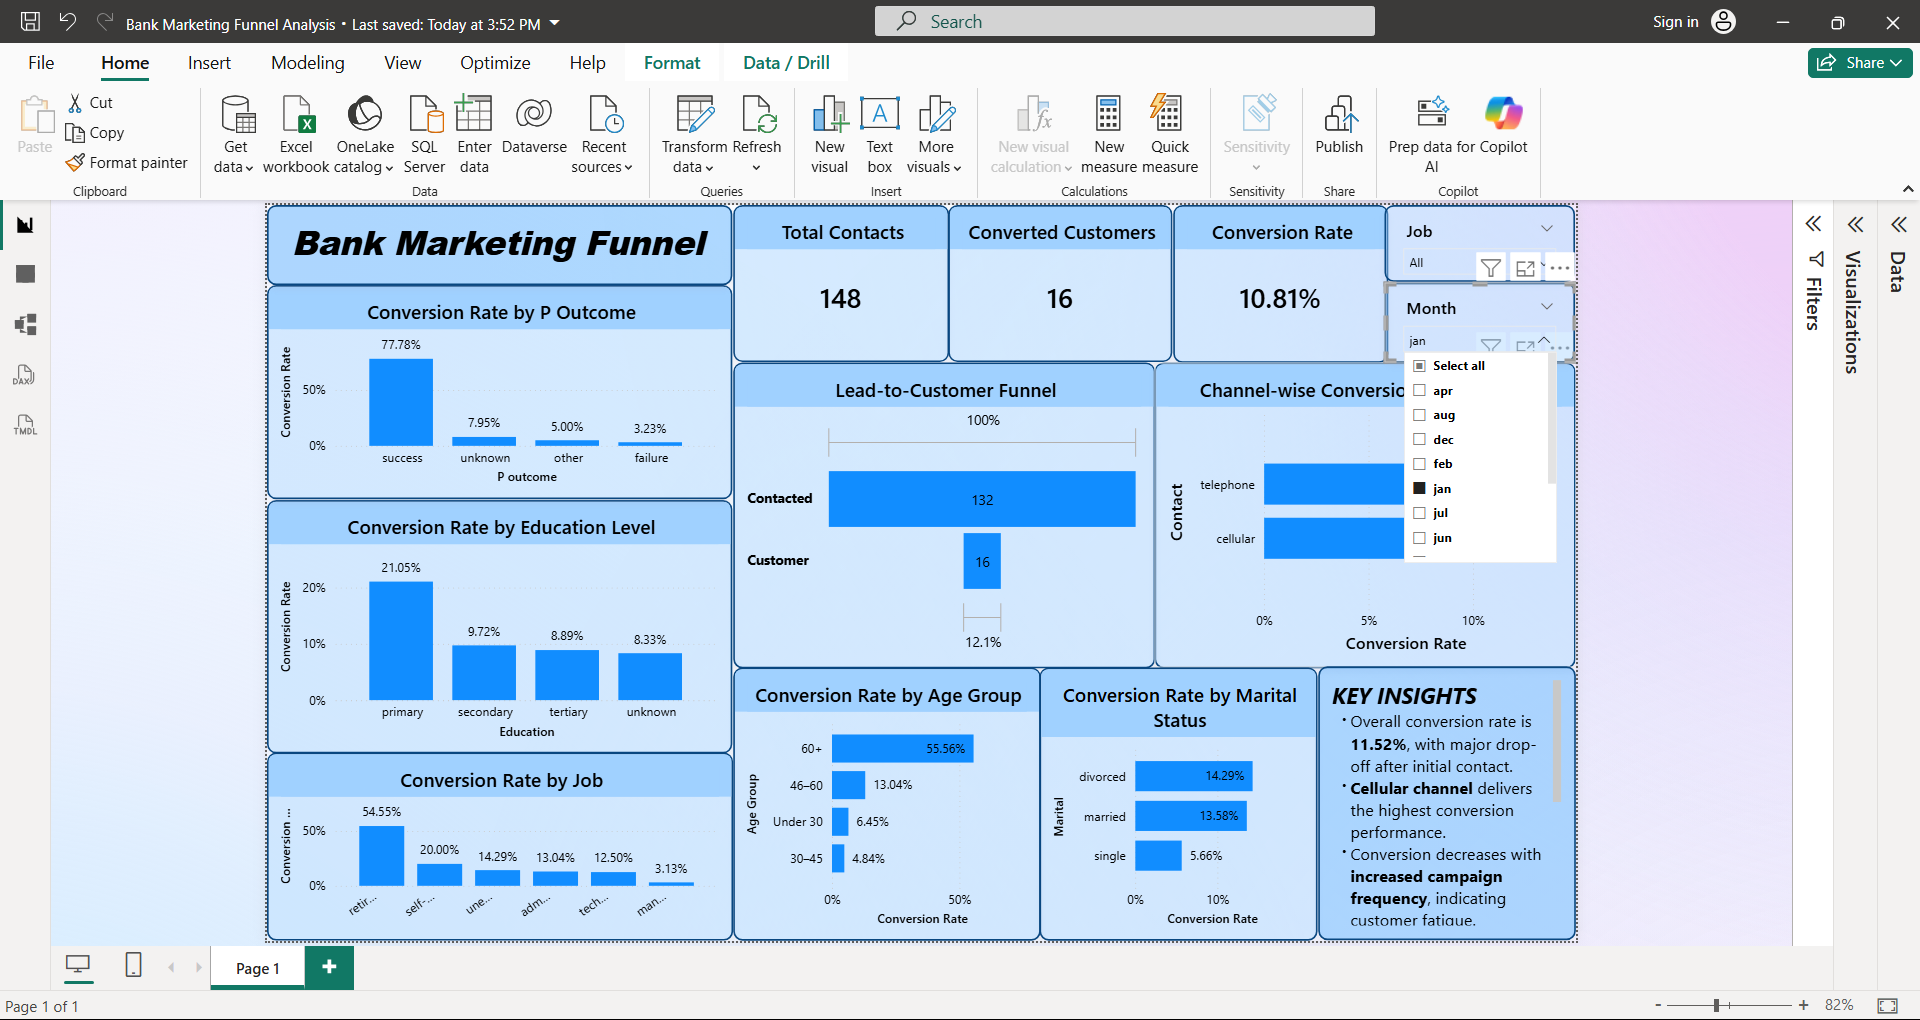

Layout of this report page (visuals, bound fields, positions):
{"tool":"powerbi","page":{"name":"Page 1","canvas":[1280,720],"ordinal":0},"visuals":[{"type":"card","title":"Total Contacts","fields":{"Values":["Cleaned_Bank_data.Total Contacts"]},"box":[455.6,0,211.3,153.7],"z":0},{"type":"card","title":"Converted Customers","fields":{"Values":["Cleaned_Bank_data.Total Customers"]},"box":[666.9,0,219.6,153.7],"z":1000},{"type":"card","title":"Conversion Rate","fields":{"Values":["Cleaned_Bank_data.Conversion Rate"]},"box":[886.6,0,210.3,154.1],"z":2000},{"type":"funnel","title":"Lead-to-Customer Funnel","fields":{"Y":["Cleaned_Bank_data.Funnel Count"],"Category":["Cleaned_Bank_data.Funnel Stage"]},"box":[455.6,153.7,413,299.1],"z":3000},{"type":"clusteredBarChart","title":"Channel-wise Conversion Performance","fields":{"Category":["Cleaned_Bank_data.Contact"],"Y":["Cleaned_Bank_data.Conversion Rate"]},"box":[868.6,153.7,411.7,299.1],"z":4000},{"type":"slicer","fields":{"Values":["Cleaned_Bank_data.Month"]},"box":[1093.7,75.5,186.6,78.2],"z":5000},{"type":"slicer","fields":{"Values":["Cleaned_Bank_data.Job"]},"box":[1093.7,0,186.6,75.5],"z":6000},{"type":"clusteredBarChart","title":"Conversion Rate by Marital Status","fields":{"Category":["Cleaned_Bank_data.Marital"],"Y":["Cleaned_Bank_data.Conversion Rate"]},"box":[756.1,452.8,271.7,267.6],"z":7000},{"type":"clusteredColumnChart","title":"Conversion Rate by Education Level","fields":{"Category":["Cleaned_Bank_data.Education"],"Y":["Cleaned_Bank_data.Conversion Rate"]},"box":[0,288.2,455.6,248.4],"z":8000},{"type":"clusteredBarChart","fields":{"Category":["Cleaned_Bank_data.Age Group"],"Y":["Cleaned_Bank_data.Conversion Rate"]},"box":[455.6,452.8,300.5,267.6],"z":9000},{"type":"clusteredColumnChart","title":"Conversion Rate by P Outcome","fields":{"Y":["Cleaned_Bank_data.Conversion Rate"],"Category":["Cleaned_Bank_data.P out Come"]},"box":[0,78.2,455.6,209.9],"z":10000},{"type":"textbox","title":"Bank Marketing Funnel","box":[0,0,455.6,78.2],"z":11000},{"type":"clusteredColumnChart","fields":{"Category":["Cleaned_Bank_data.Job"],"Y":["Cleaned_Bank_data.Conversion Rate"]},"box":[0,536,456,184],"z":12000},{"type":"textbox","box":[1028.4,451.2,251.9,267.8],"z":13000}]}

Visuals, with their boxes on the page's 1280x720 design canvas (x1, y1, x2, y2). These are canvas units, not pixel positions in the 1920x1020 screenshot, which may show the page scaled, cropped or inside an application window:
"Total Contacts" card: {"left": 456, "top": 0, "right": 667, "bottom": 154}
"Converted Customers" card: {"left": 667, "top": 0, "right": 886, "bottom": 154}
"Conversion Rate" card: {"left": 887, "top": 0, "right": 1097, "bottom": 154}
"Lead-to-Customer Funnel" funnel: {"left": 456, "top": 154, "right": 869, "bottom": 453}
"Channel-wise Conversion Performance" clusteredBarChart: {"left": 869, "top": 154, "right": 1280, "bottom": 453}
slicer - Cleaned_Bank_data.Month: {"left": 1094, "top": 76, "right": 1280, "bottom": 154}
slicer - Cleaned_Bank_data.Job: {"left": 1094, "top": 0, "right": 1280, "bottom": 76}
"Conversion Rate by Marital Status" clusteredBarChart: {"left": 756, "top": 453, "right": 1028, "bottom": 720}
"Conversion Rate by Education Level" clusteredColumnChart: {"left": 0, "top": 288, "right": 456, "bottom": 537}
clusteredBarChart - Cleaned_Bank_data.Age Group x Cleaned_Bank_data.Conversion Rate: {"left": 456, "top": 453, "right": 756, "bottom": 720}
"Conversion Rate by P Outcome" clusteredColumnChart: {"left": 0, "top": 78, "right": 456, "bottom": 288}
"Bank Marketing Funnel" textbox: {"left": 0, "top": 0, "right": 456, "bottom": 78}
clusteredColumnChart - Cleaned_Bank_data.Job x Cleaned_Bank_data.Conversion Rate: {"left": 0, "top": 536, "right": 456, "bottom": 720}
textbox: {"left": 1028, "top": 451, "right": 1280, "bottom": 719}
